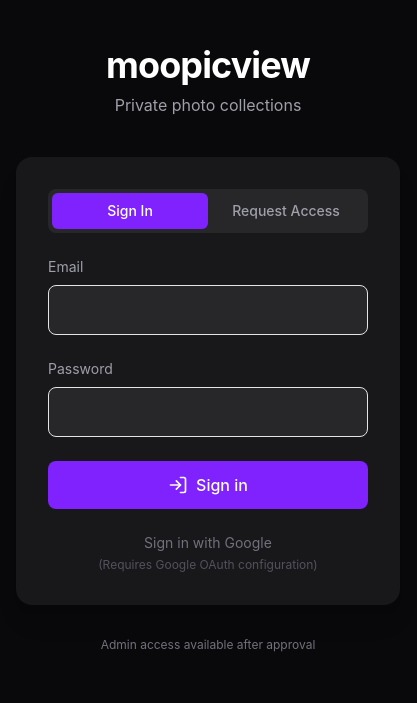
Test: Login › shows error message on invalid credentials
Check: the button "Sign in" is shown, box [48,461,368,509]
In the field labelled "Email": coordinates (208, 310) [48,285,368,335], type "test@example.com"
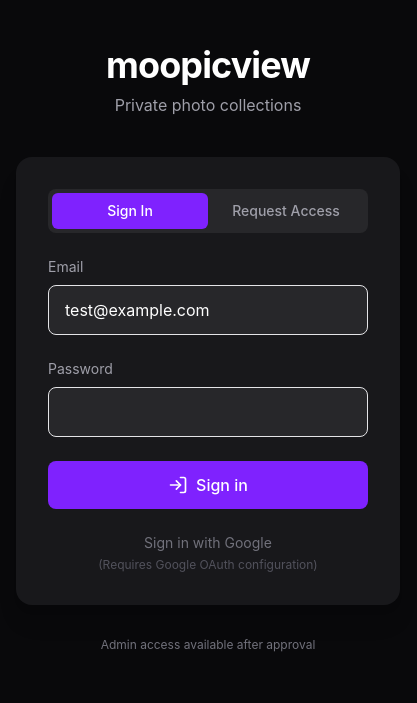
In the password field labelled "Password": coordinates (208, 412) [48,387,368,437], type "wrongpassword"
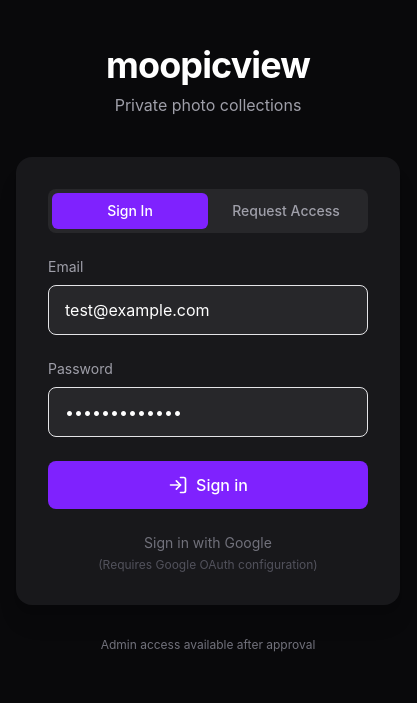
Click the button "Sign in": coordinates (208, 485) [48,461,368,509]
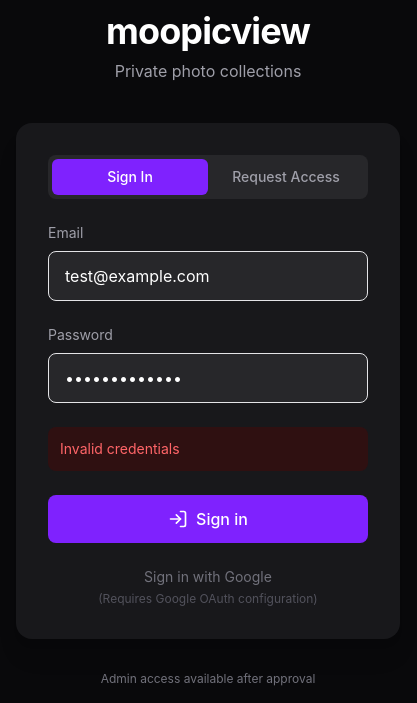
Check: the text "Invalid credentials" is shown, box [48,427,368,471]
